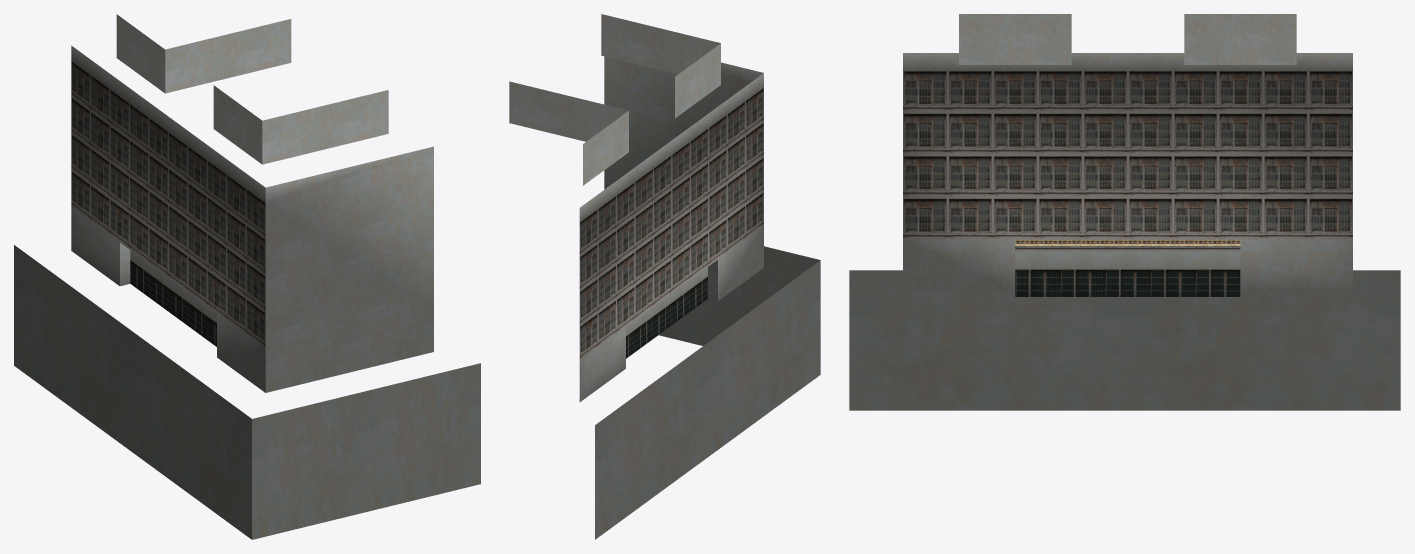
File: M10_Z01_13_BombSiteB.glb
3 views of the same model, side by side, from view 1: azimuth 30°, elevation 25°; view 2: azimuth 150°, elevation 25°; view 3: azimuth 270°, elevation 25° (orthographic). The views are drawn at different scales.
Parts seen in each view (by area): view 1: M10_Z01_13_BOMBSITEB; view 2: M10_Z01_13_BOMBSITEB; view 3: M10_Z01_13_BOMBSITEB.
Boxes of the visible parts, x1,y1,x2,y2 form: M10_Z01_13_BOMBSITEB: [14, 14, 480, 539]; M10_Z01_13_BOMBSITEB: [509, 14, 820, 539]; M10_Z01_13_BOMBSITEB: [849, 14, 1400, 410].
Bounding box in the file's own units: 21.76 × 33.66 × 39.21.
4 materials, 4 textured.
